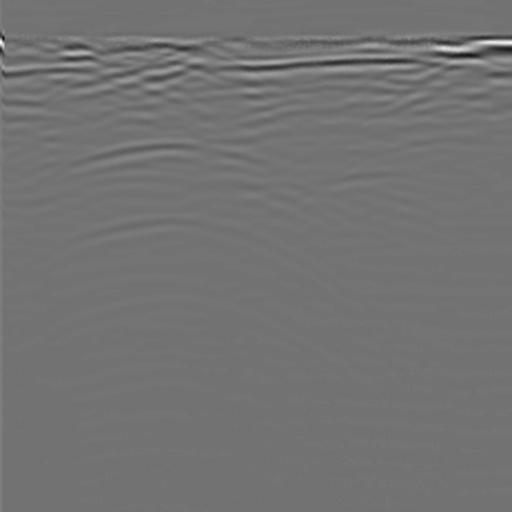hyperbola: (43, 125, 300, 266)
